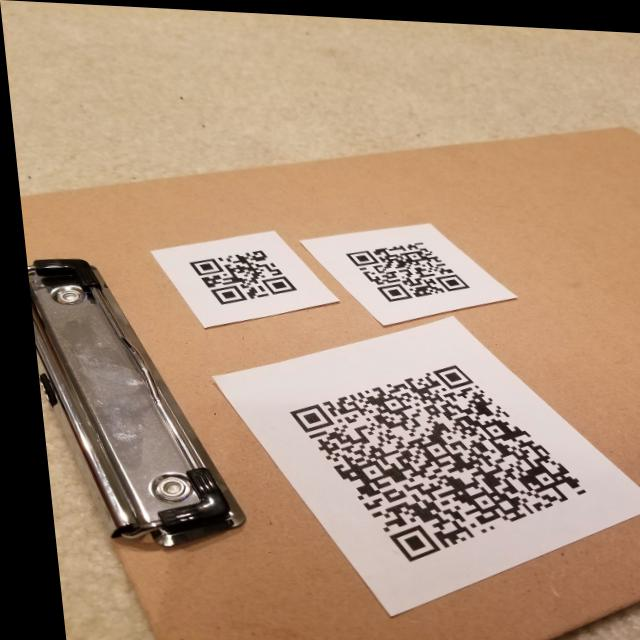QR_CODE: (264, 344, 595, 573), (333, 224, 473, 309), (170, 233, 304, 312)
